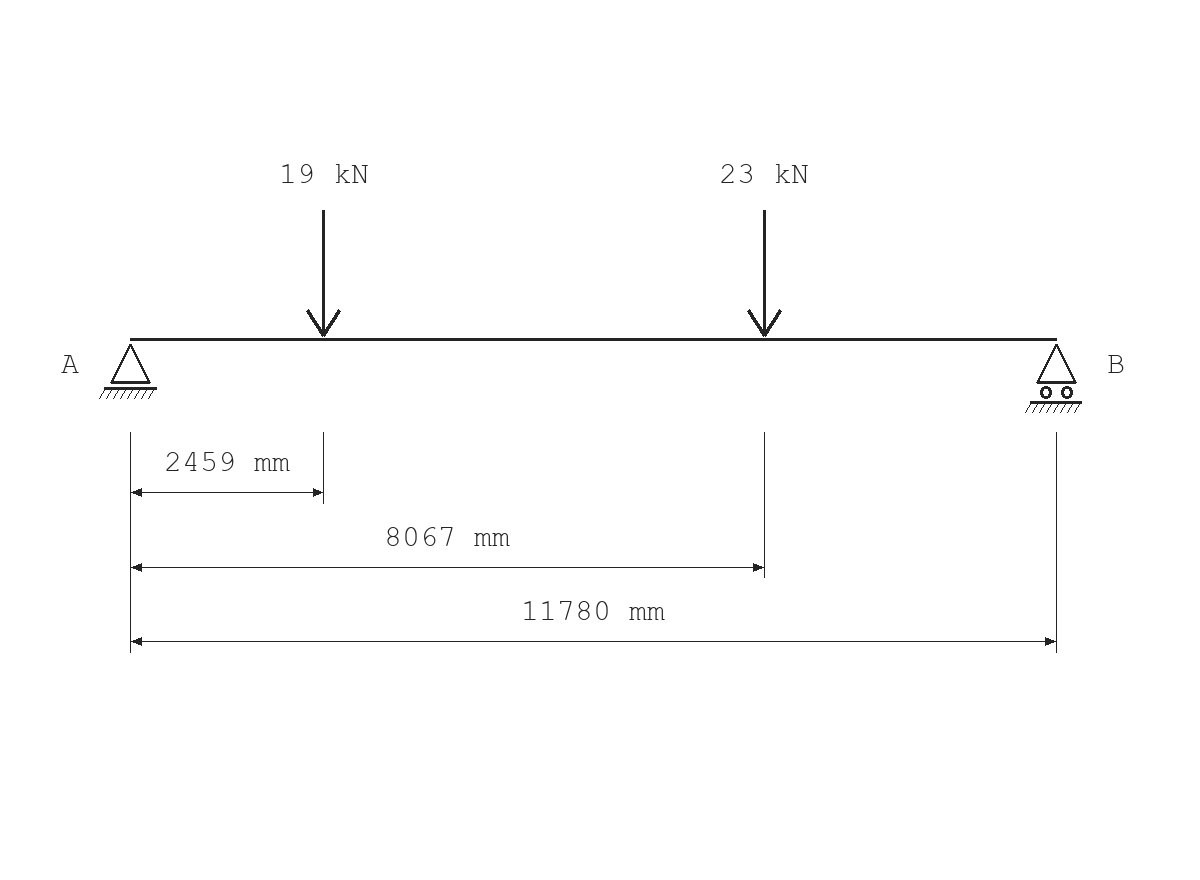pin_support: (99, 344, 157, 399)
point_load: (306, 210, 341, 337), (747, 210, 782, 337)
roller_support: (1025, 344, 1082, 413)
